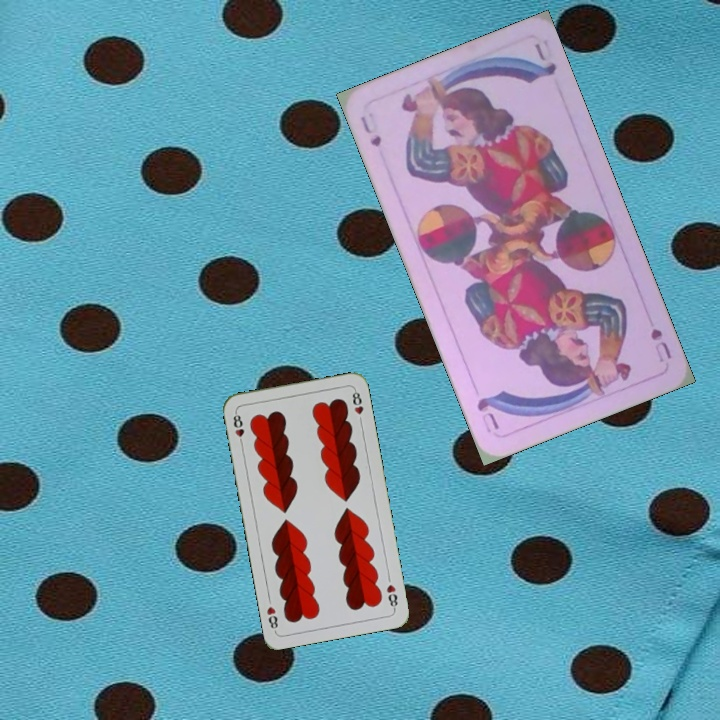H8: (229, 408, 247, 448), (383, 580, 400, 612)
SU: (646, 324, 674, 365), (356, 112, 384, 150)
